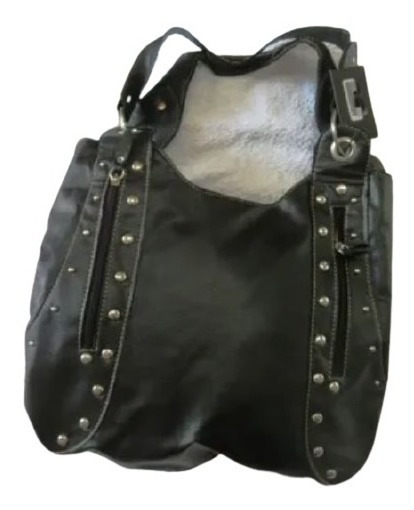cartera: (22, 24, 393, 485)
